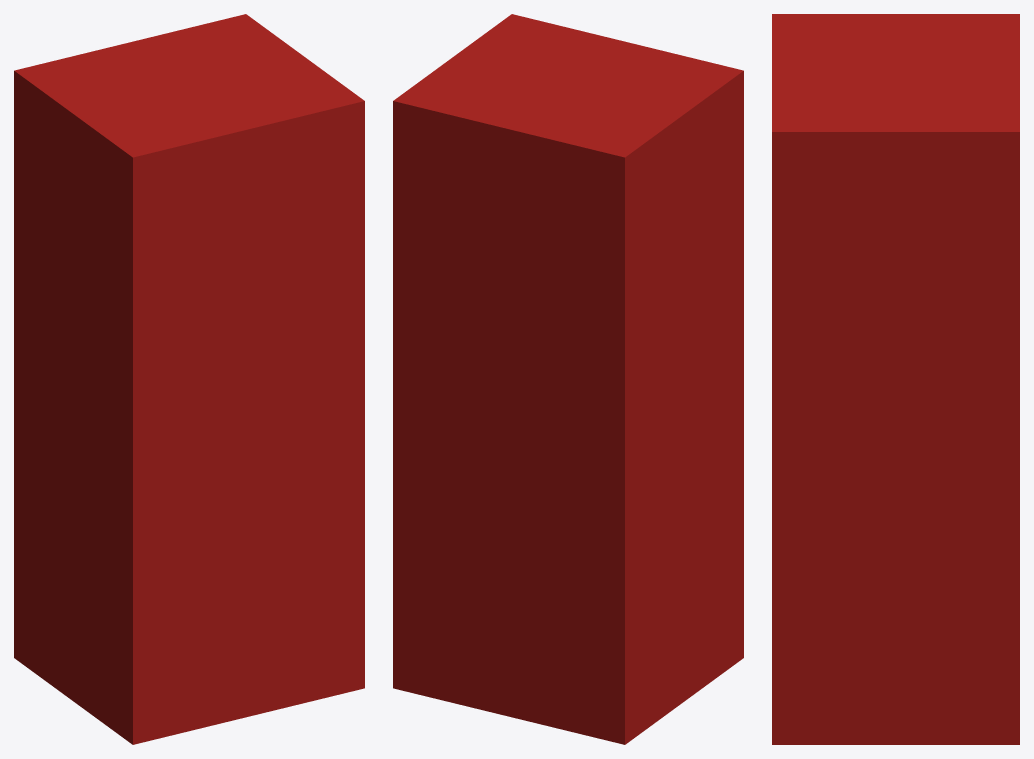
Rendered from brute.obj.
3 renders of one model, left to right at view 1: azimuth 30°, elevation 25°; view 2: azimuth 150°, elevation 25°; view 3: azimuth 270°, elevation 25°, orthographic. The views are drawn at different scales.
Visible parts, largest first — view 1: brute_body; view 2: brute_body; view 3: brute_body.
Part boxes in pixels (left/top/right/bottom): brute_body: left=14, top=14, right=364, bottom=744; brute_body: left=393, top=14, right=743, bottom=744; brute_body: left=772, top=14, right=1019, bottom=744.
Size of the model in its own units: 1.24 by 3 by 1.1.
